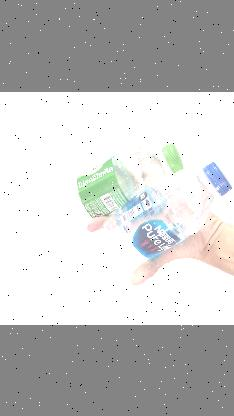Plastic Bottle: (30, 160, 234, 315), (0, 140, 186, 254)
